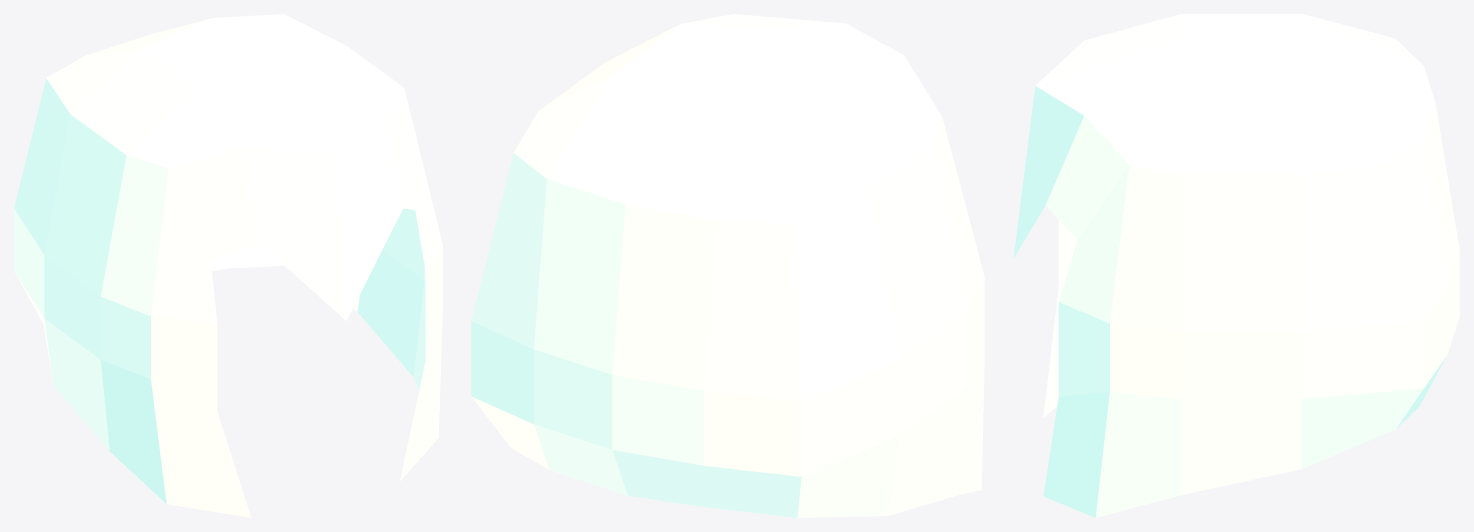
The model's file is Helmet.fbx.
3 views of the same model, side by side, from view 1: azimuth 30°, elevation 25°; view 2: azimuth 150°, elevation 25°; view 3: azimuth 270°, elevation 25° (orthographic). The views are drawn at different scales.
Parts seen in each view (by area): view 1: Helmet; view 2: Helmet; view 3: Helmet.
Part boxes in pixels (left/top/right/bottom): Helmet: left=14, top=14, right=442, bottom=517; Helmet: left=471, top=14, right=984, bottom=517; Helmet: left=1013, top=14, right=1459, bottom=517.
Bounding box in the file's own units: 7.37 × 8.53 × 8.14.
